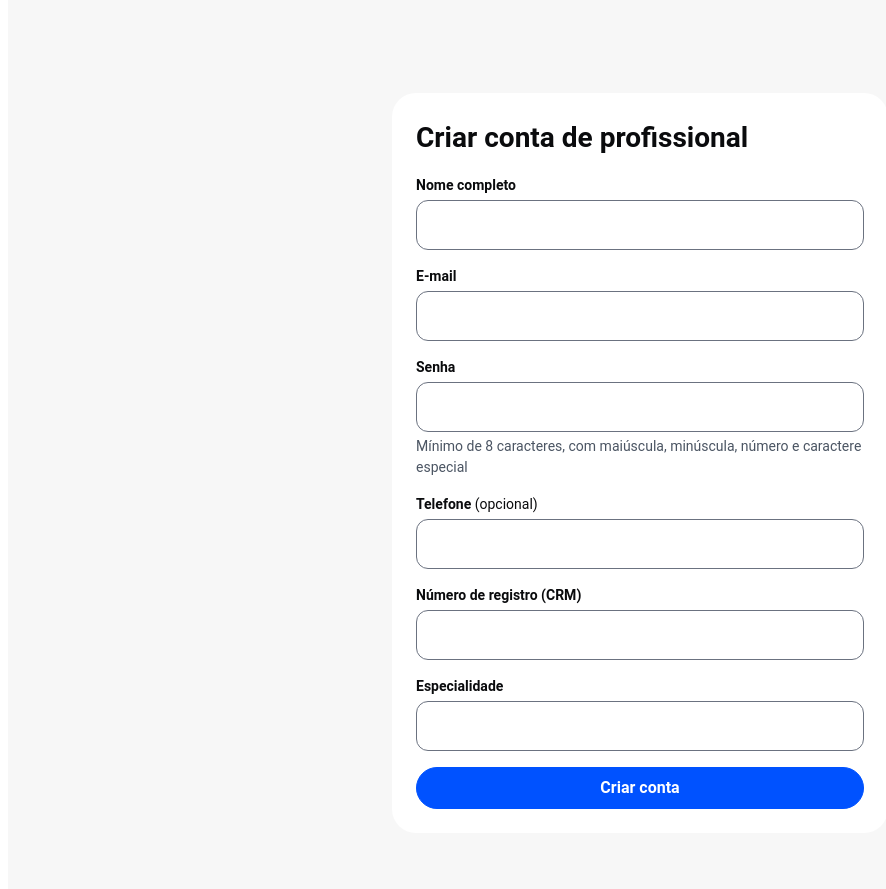
Test: RegisterProfessionalPage refusals (REG-02, REG-03, REG-07) › shows the message of its own for 409 EMAIL_TAKEN and keeps what was typed
The width and height of the screenshot is (886, 889).
Check: the password field labelled "Senha" is shown, box left=416, top=382, right=864, bottom=432
Step 1. Type "  Dra. Ana Souza " into the field labelled "Nome completo" → (640, 225), box left=416, top=200, right=864, bottom=250
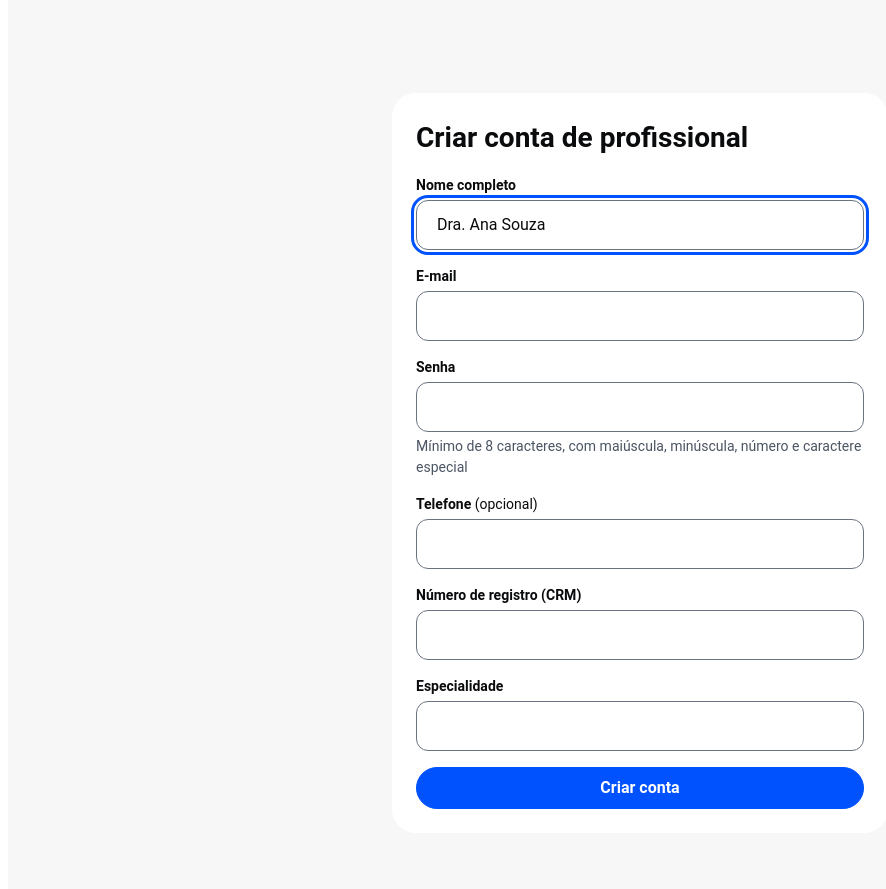
Step 2. Type "ana@clinica.com" into the field labelled "E-mail" → (640, 316), box left=416, top=291, right=864, bottom=341
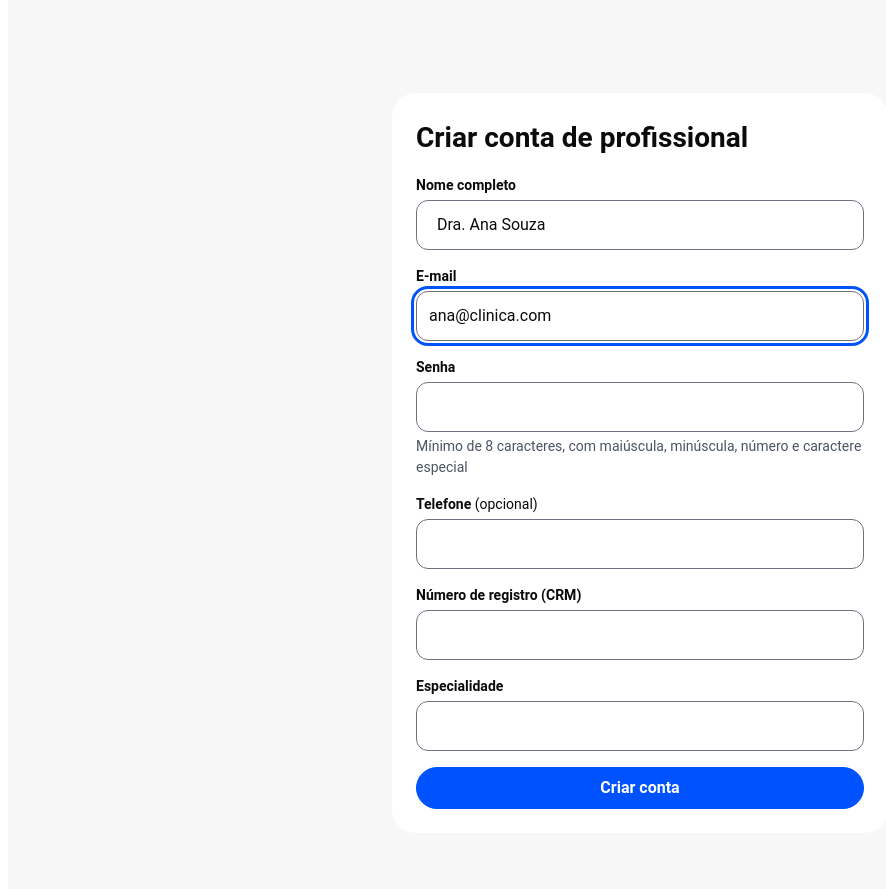
Step 3. Type "Senha123!" into the password field labelled "Senha" → (640, 407), box left=416, top=382, right=864, bottom=432
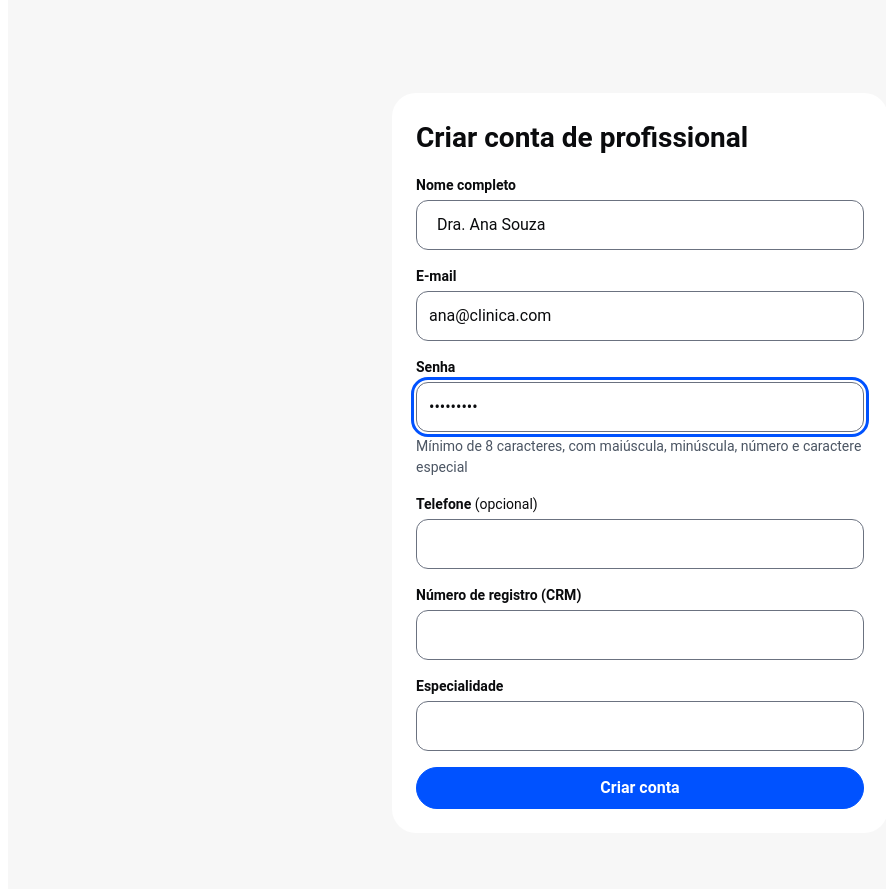
Step 4. Type "CRM-SP 123456" into the field labelled "Número de registro (CRM)" → (640, 635), box left=416, top=610, right=864, bottom=660
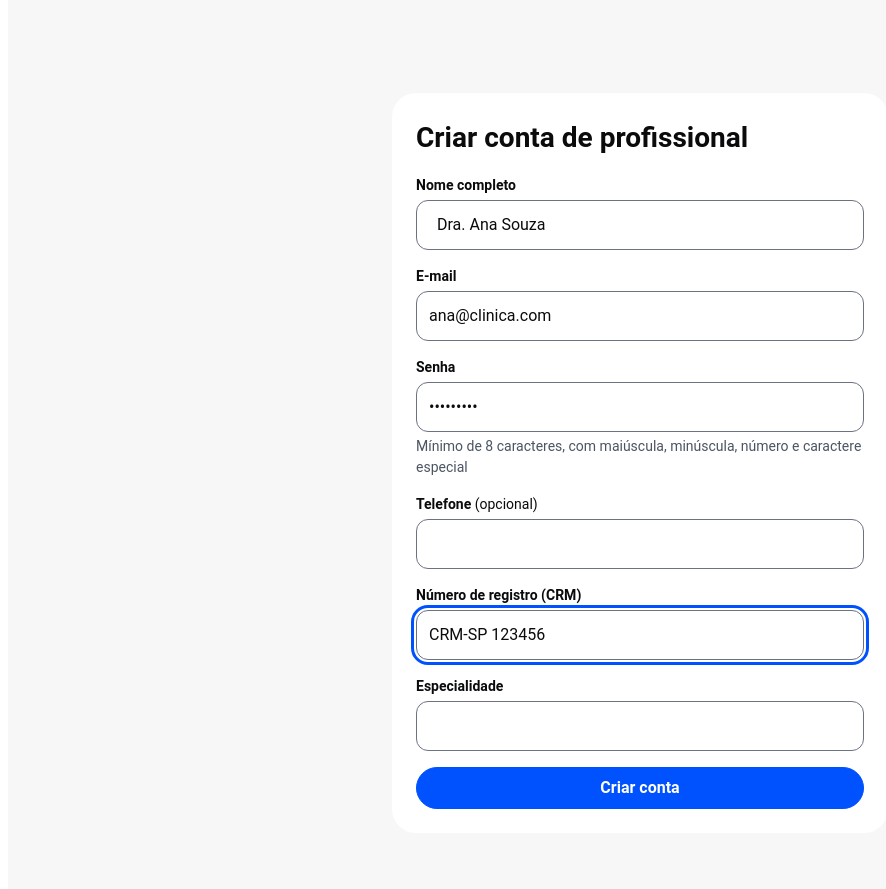
Step 5. Type "Endocrinologia" into the field labelled "Especialidade" → (640, 726), box left=416, top=701, right=864, bottom=751
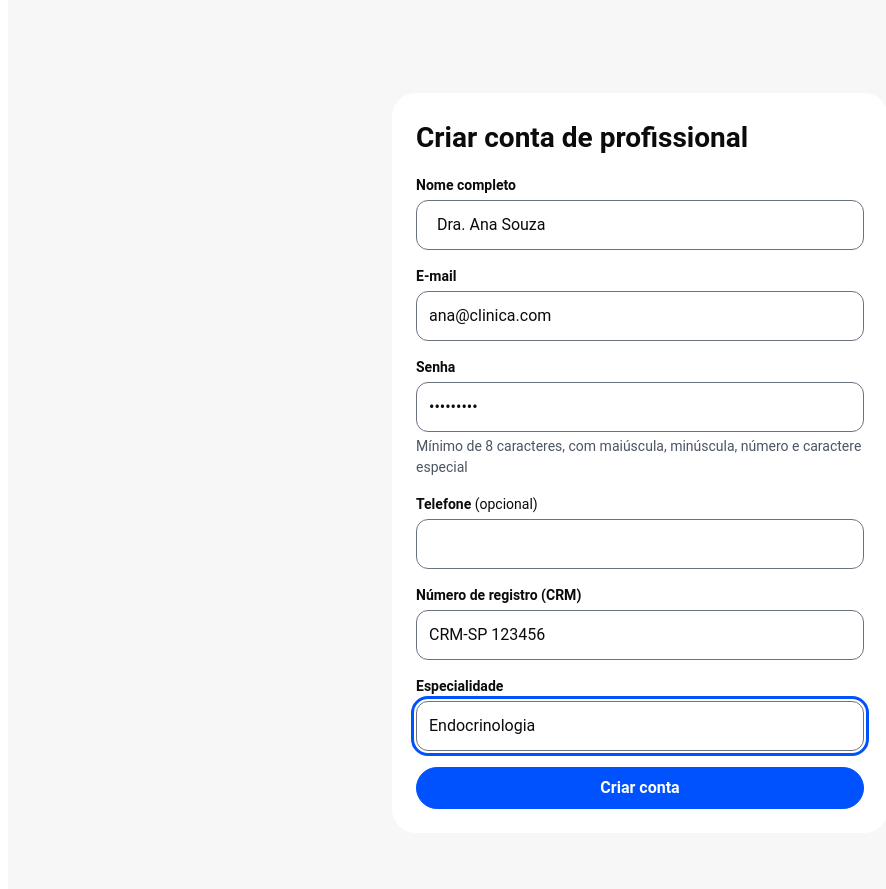
Step 6. Click the button "Criar conta" → (640, 788), box left=416, top=767, right=864, bottom=809
(page scrolled)
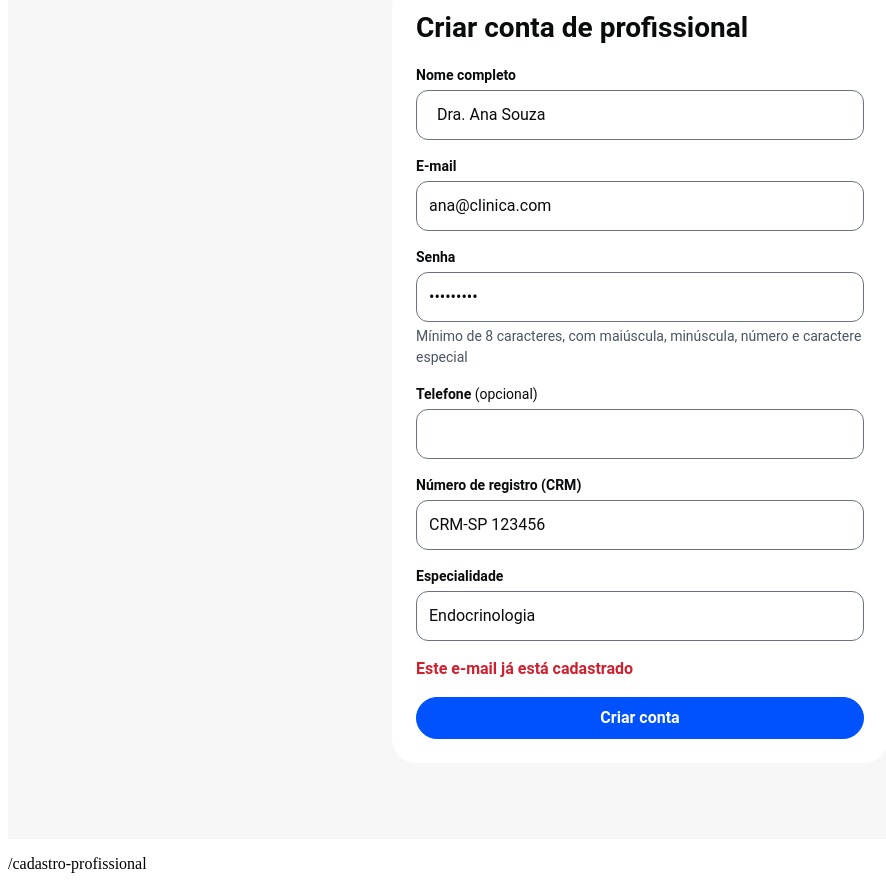
Check: the button "Criar conta" is enabled, box left=416, top=697, right=864, bottom=739
Check: the message reads "Este e-mail já está cadastrado", box left=416, top=659, right=633, bottom=678
